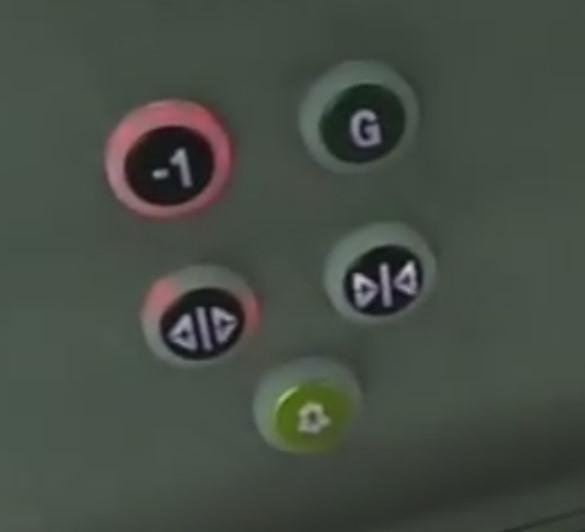-1: (103, 97, 233, 220)
G: (297, 57, 421, 177)
alarm: (253, 355, 367, 455)
close: (320, 217, 441, 328)
open: (138, 261, 258, 373)
